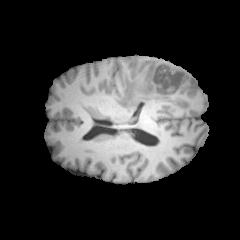glioma: (114, 61, 194, 111)
